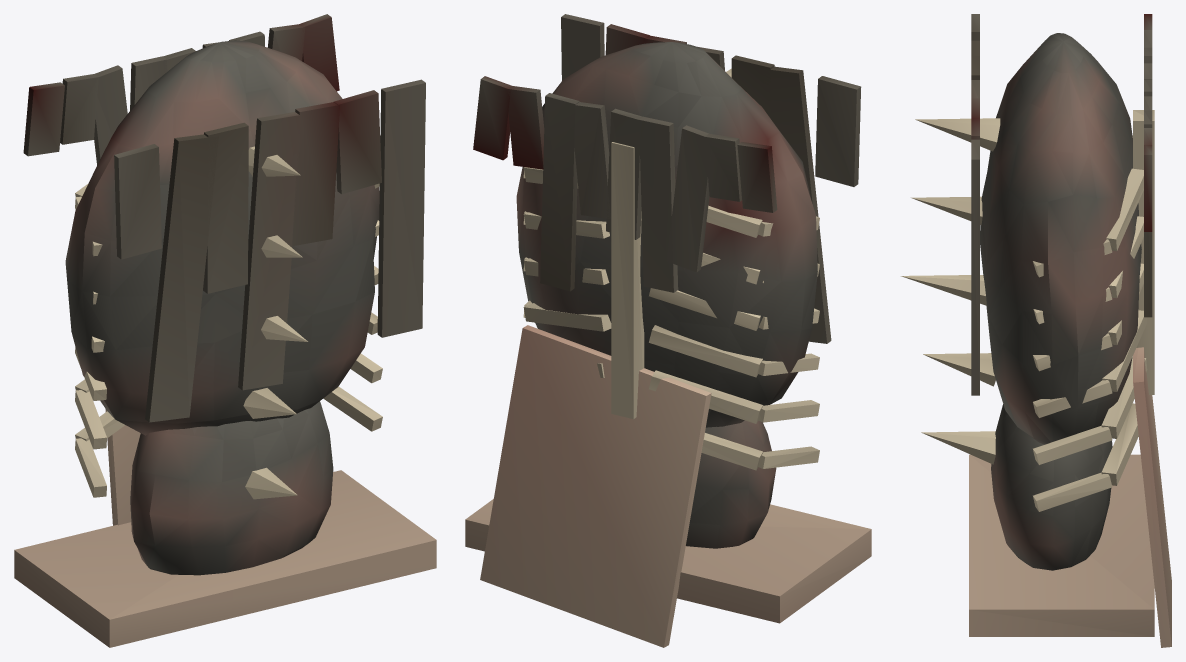
Rendered from PapaMonsterTorso.glb.
3 renders of one model, left to right at view 1: azimuth 30°, elevation 25°; view 2: azimuth 150°, elevation 25°; view 3: azimuth 270°, elevation 25°, orthographic. The views are drawn at different scales.
Visible parts, largest first — view 1: PapaMonsterTorso_monster_skin, PapaMonsterTorso_shirtPapa, PapaMonsterTorso_leather, PapaMonsterTorso_bone; view 2: PapaMonsterTorso_leather, PapaMonsterTorso_monster_skin, PapaMonsterTorso_shirtPapa, PapaMonsterTorso_bone; view 3: PapaMonsterTorso_monster_skin, PapaMonsterTorso_leather, PapaMonsterTorso_bone, PapaMonsterTorso_shirtPapa.
Part boxes in pixels (bbox=[...]): PapaMonsterTorso_monster_skin: bbox=[65, 40, 379, 575]; PapaMonsterTorso_shirtPapa: bbox=[23, 14, 425, 422]; PapaMonsterTorso_leather: bbox=[14, 409, 436, 647]; PapaMonsterTorso_bone: bbox=[75, 146, 382, 499]; PapaMonsterTorso_leather: bbox=[465, 325, 871, 647]; PapaMonsterTorso_monster_skin: bbox=[516, 42, 817, 548]; PapaMonsterTorso_shirtPapa: bbox=[473, 14, 861, 343]; PapaMonsterTorso_bone: bbox=[523, 68, 819, 470]; PapaMonsterTorso_monster_skin: bbox=[980, 33, 1141, 570]; PapaMonsterTorso_leather: bbox=[969, 347, 1171, 647]; PapaMonsterTorso_bone: bbox=[901, 110, 1154, 511]; PapaMonsterTorso_shirtPapa: bbox=[971, 14, 1152, 395].
Bounding box in the file's own units: 1.7 × 2.87 × 1.26.
